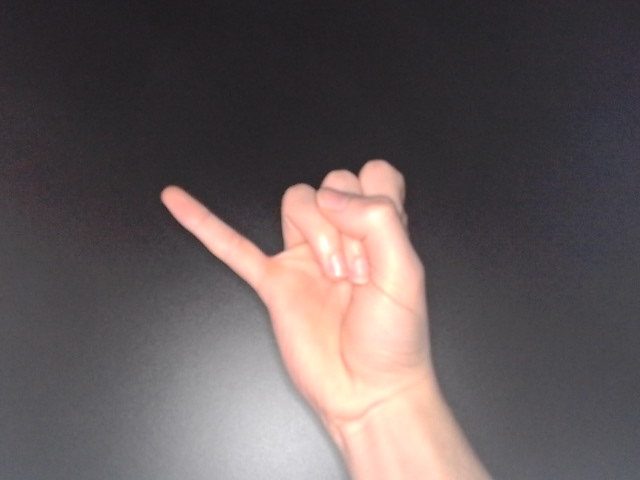j: (156, 155, 441, 434)
